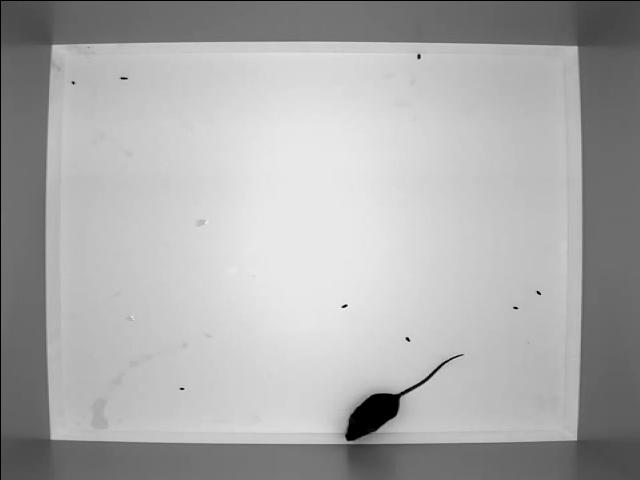Tikus: (341, 346, 468, 444)
